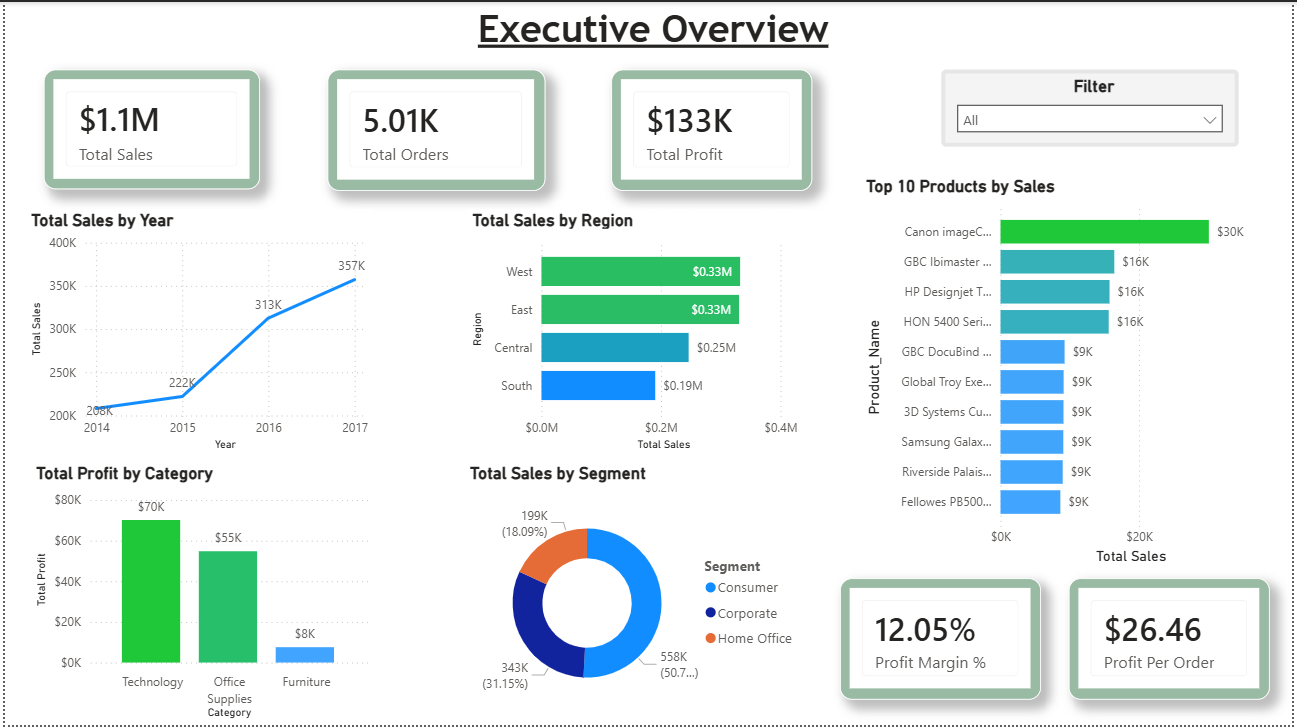

The dashboard page shown, as its layout file describes it:
{"tool":"powerbi","page":{"name":"Executive Overview","canvas":[1280,720],"ordinal":0},"visuals":[{"type":"cardVisual","fields":{"Data":["Superstore.Total Sales"]},"box":[38.6,67.2,215.2,119.4],"z":0},{"type":"cardVisual","fields":{"Data":["Superstore.Total Profit"]},"box":[603.3,67.2,200.3,120.7],"z":1000},{"type":"cardVisual","fields":{"Data":["Superstore.Total Orders"]},"box":[320.9,67.2,216.4,120.7],"z":2000},{"type":"cardVisual","fields":{"Data":["Superstore.Profit Margin %"]},"box":[831.2,573.5,200.3,120.8],"z":3000},{"type":"cardVisual","fields":{"Data":["Superstore.Profit Per Order"]},"box":[1059,573.5,200.3,120.8],"z":4000},{"type":"lineChart","fields":{"Category":["Superstore.Order_Date.Variation.Date Hierarchy.Year","Superstore.Order_Date.Variation.Date Hierarchy.Quarter","Superstore.Order_Date.Variation.Date Hierarchy.Month","Superstore.Order_Date.Variation.Date Hierarchy.Day"],"Y":["Superstore.Total Sales"]},"box":[21.4,206.8,345,245],"z":5000},{"type":"barChart","fields":{"Category":["Superstore.Region"],"Y":["Superstore.Total Sales"]},"box":[460.3,206.8,339.6,245.1],"z":6000},{"type":"columnChart","fields":{"Category":["Superstore.Category"],"Y":["Superstore.Total Profit"]},"box":[26.1,459.6,340.3,259.3],"z":7000},{"type":"clusteredBarChart","title":"Top 10 Products by Sales","fields":{"Category":["Superstore.Product_Name"],"Y":["Superstore.Total Sales"]},"box":[852.1,172.9,418,391.8],"z":8000},{"type":"donutChart","fields":{"Category":["Superstore.Segment"],"Y":["Superstore.Total Sales"]},"box":[458.3,459.6,340.3,259.3],"z":9000},{"type":"slicer","title":"Filter","fields":{"Values":["Superstore.Region","Superstore.Category","Superstore.Year"]},"box":[931.7,67.2,296.1,77.1],"z":10000},{"type":"textbox","box":[10,0,1270.1,56],"z":11000}]}

Visuals, with their boxes in screenshot pixels (x1, y1, x2, y2), scaled from the page's 1280x720 canvas onto the 1297x728 screenshot:
cardVisual - Superstore.Total Sales: region(39, 68, 257, 189)
cardVisual - Superstore.Total Profit: region(611, 68, 814, 190)
cardVisual - Superstore.Total Orders: region(325, 68, 544, 190)
cardVisual - Superstore.Profit Margin %: region(842, 580, 1045, 702)
cardVisual - Superstore.Profit Per Order: region(1073, 580, 1276, 702)
lineChart - Superstore.Order_Date.Variation.Date Hierarchy.Year x Superstore.Order_Date.Variation.Date Hierarchy.Quarter: region(22, 209, 371, 457)
barChart - Superstore.Region x Superstore.Total Sales: region(466, 209, 811, 457)
columnChart - Superstore.Category x Superstore.Total Profit: region(26, 465, 371, 727)
"Top 10 Products by Sales" clusteredBarChart: region(863, 175, 1287, 571)
donutChart - Superstore.Segment x Superstore.Total Sales: region(464, 465, 809, 727)
"Filter" slicer: region(944, 68, 1244, 146)
textbox: region(10, 0, 1296, 57)
